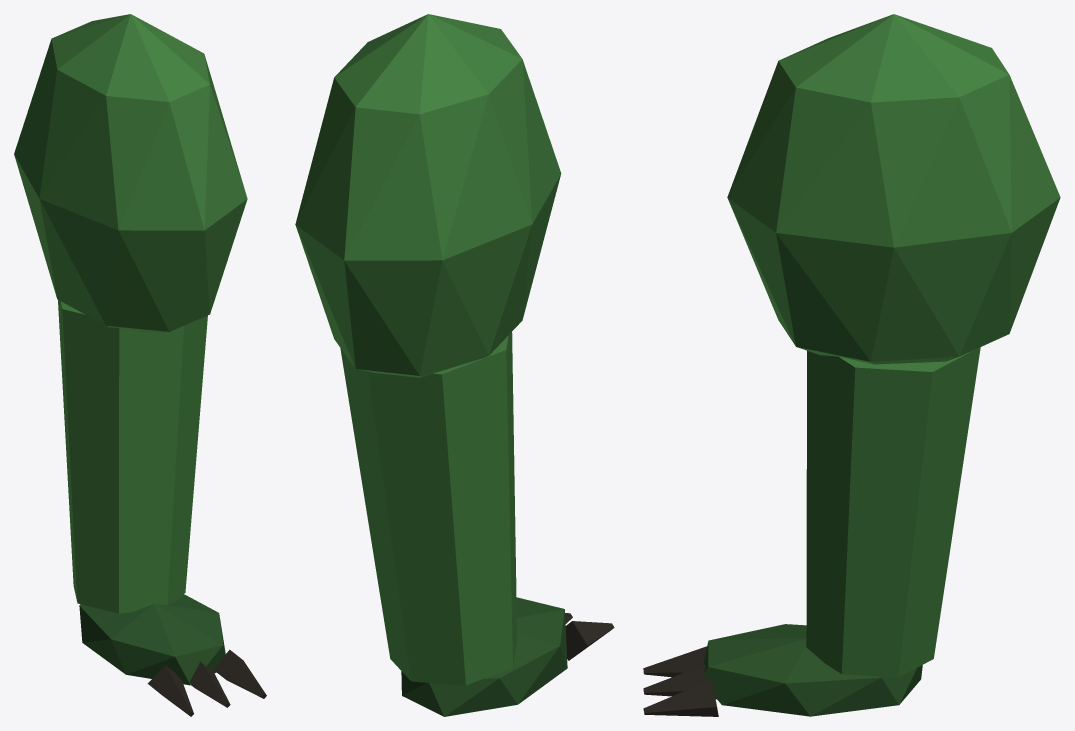
The model's file is dragon_0_leg_br.glb.
The picture shows the model from 3 angles, left to right: view 1: azimuth 30°, elevation 25°; view 2: azimuth 150°, elevation 25°; view 3: azimuth 270°, elevation 25°; orthographic projection. The views are drawn at different scales.
Parts seen in each view (by area): view 1: dragon_0_leg_br; view 2: dragon_0_leg_br; view 3: dragon_0_leg_br.
Part boxes in pixels (<box>): dragon_0_leg_br: <box>14,14,266,716</box>; dragon_0_leg_br: <box>295,14,614,716</box>; dragon_0_leg_br: <box>643,14,1060,716</box>.
Size of the model in its own units: 0.4 by 1.29 by 0.701.
